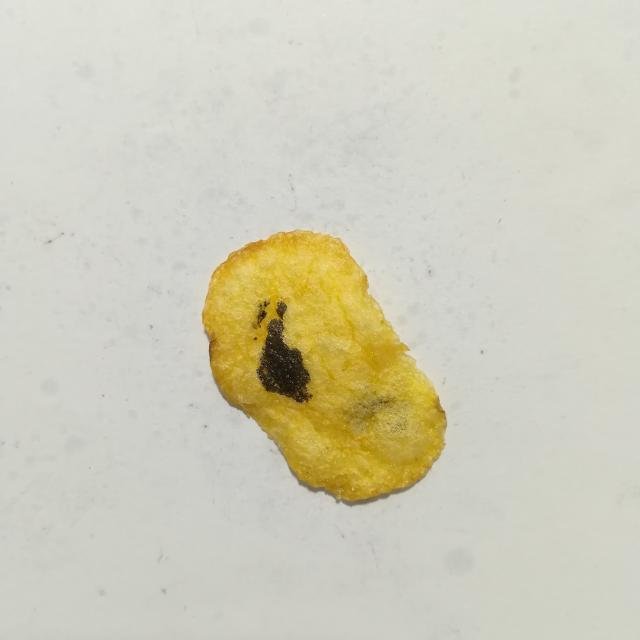chip: (202, 231, 446, 501)
damaged: (257, 302, 311, 403), (257, 300, 270, 326), (254, 337, 257, 340)
semi-damaged: (349, 396, 407, 436)
